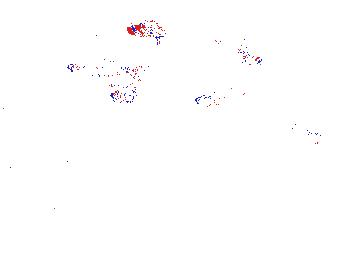X-ray fish: (185, 221, 207, 259), (106, 87, 143, 107)
glassfish: (276, 179, 344, 217)
red belly glassfish: (126, 19, 170, 40), (217, 44, 263, 64)
redtail glassfish: (291, 119, 344, 150), (67, 57, 141, 78), (194, 86, 247, 109)
